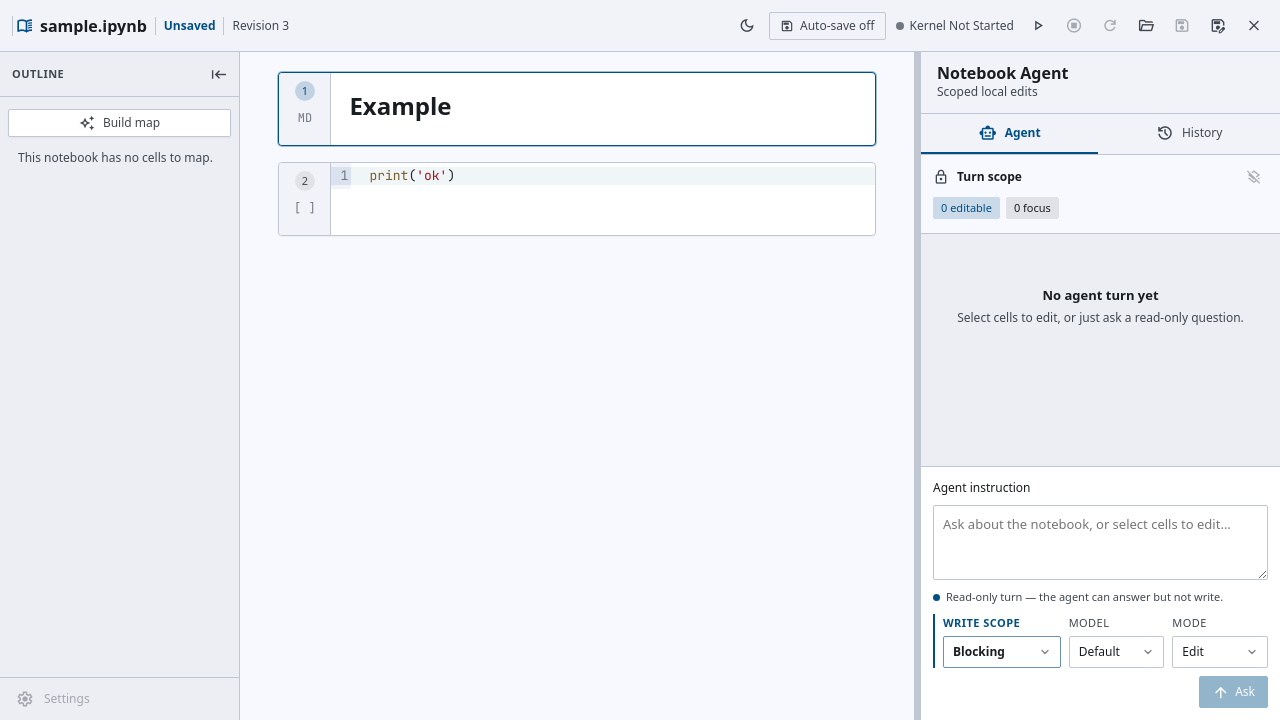
Scenario: Notebook editor › requires confirmation before discarding a dirty notebook
Step 1. Click the button named "Close notebook" → (1254, 26), box top-left (1240, 12), bottom-right (1268, 40)
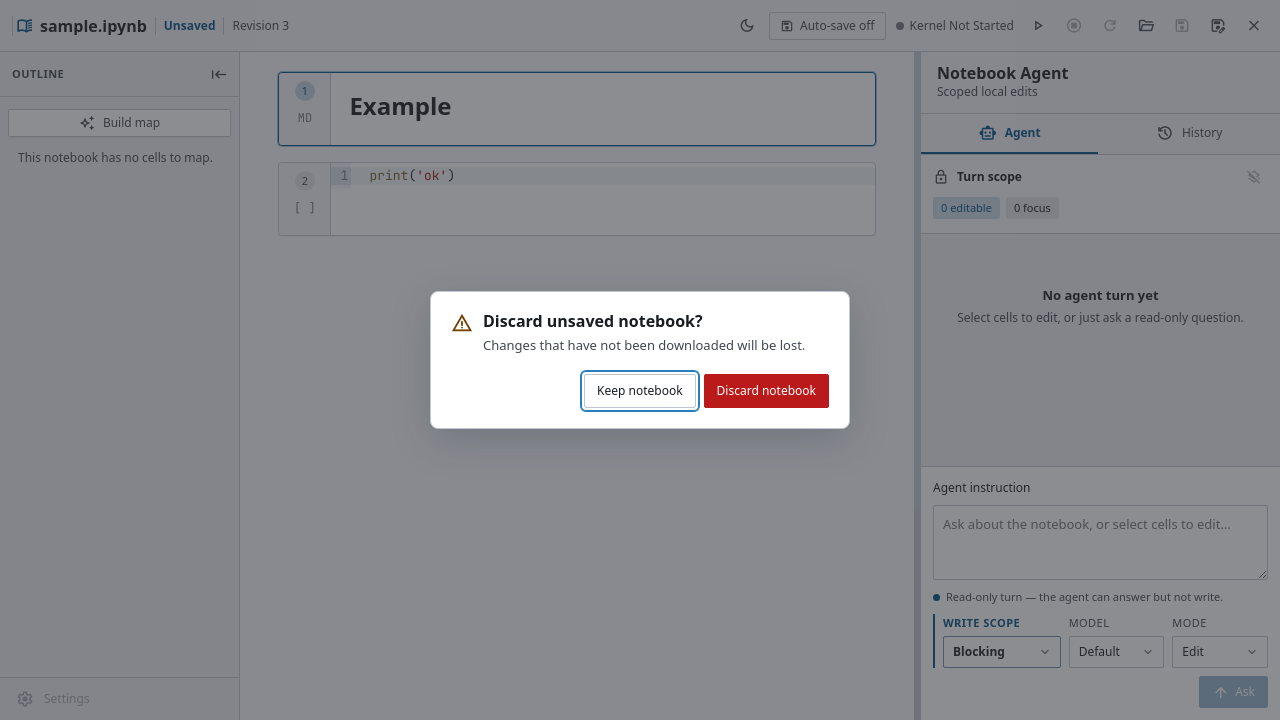
expect the dialog "Discard unsaved notebook?" shows "Changes that have not been downloaded will be lost.": met, box top-left (483, 336), bottom-right (805, 354)
Step 2. Click the button "Keep notebook" → (640, 391), box top-left (584, 374), bottom-right (696, 408)
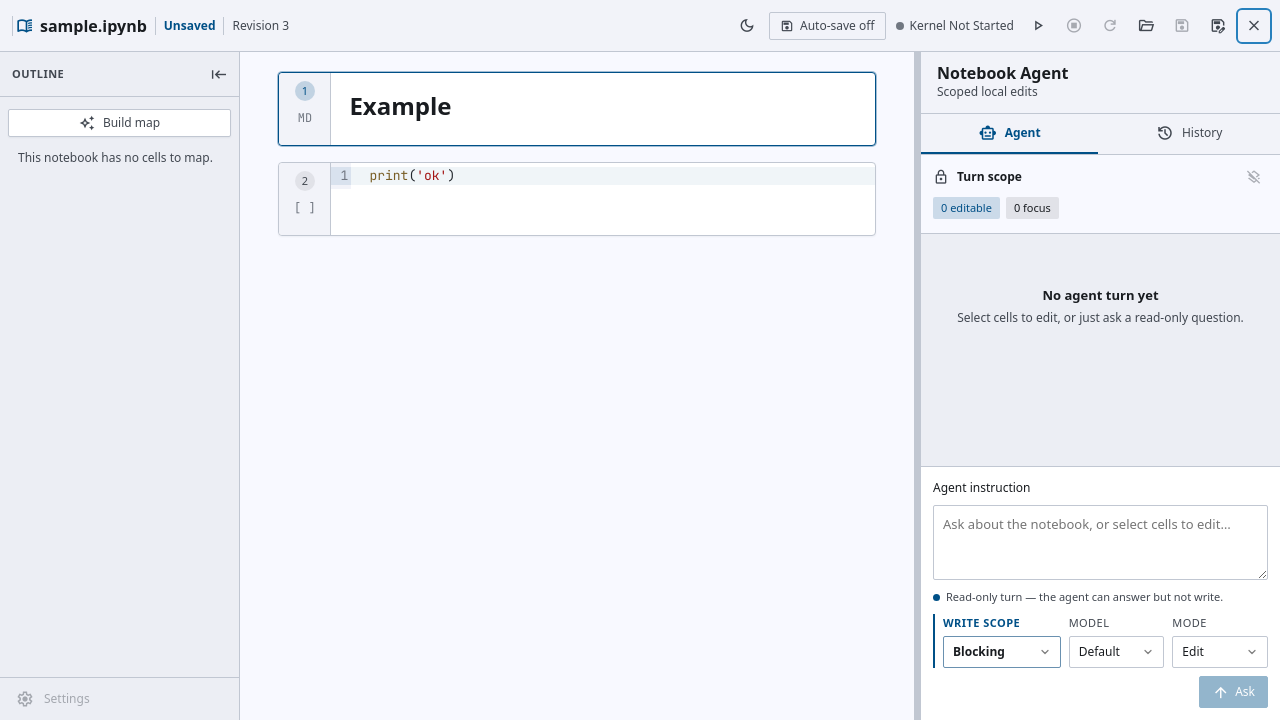
expect the text "sample.ipynb" is shown: met, box top-left (40, 16), bottom-right (147, 34)
expect the dialog is gone: met
Step 3. Click the button named "Close notebook" → (1254, 26), box top-left (1240, 12), bottom-right (1268, 40)
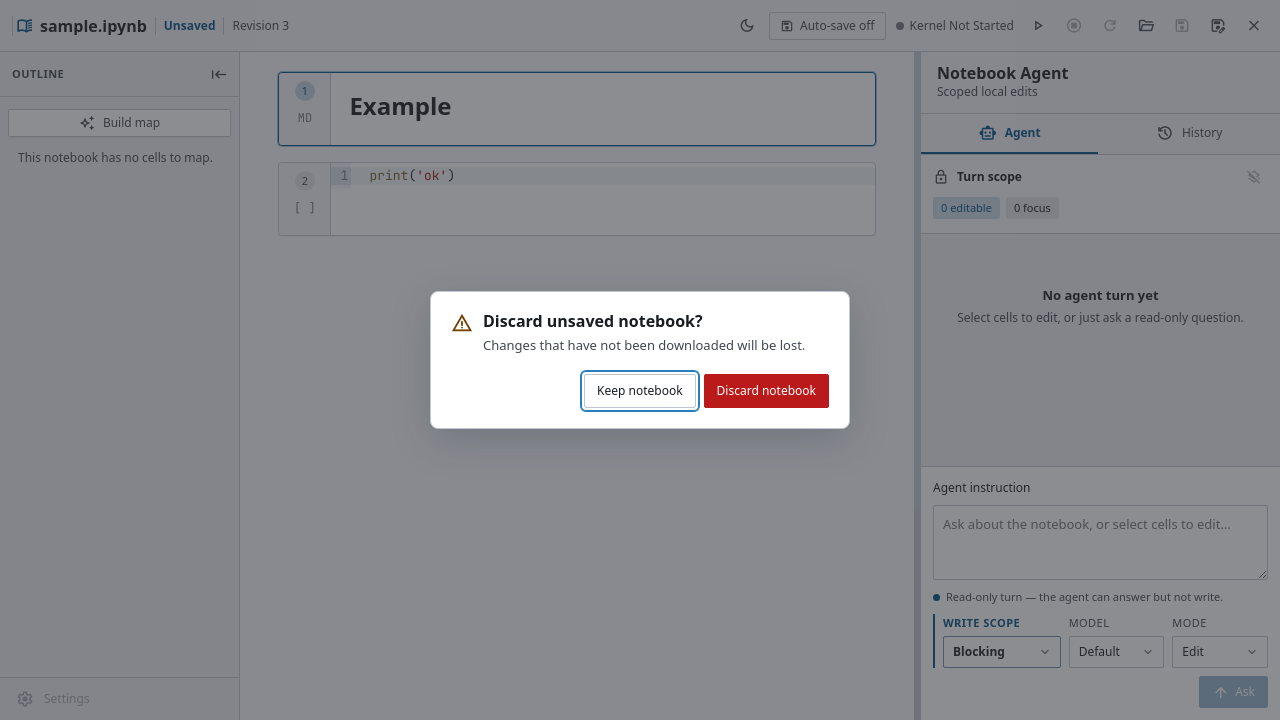
Step 4. Click the button "Discard notebook" → (766, 391), box top-left (704, 374), bottom-right (829, 408)
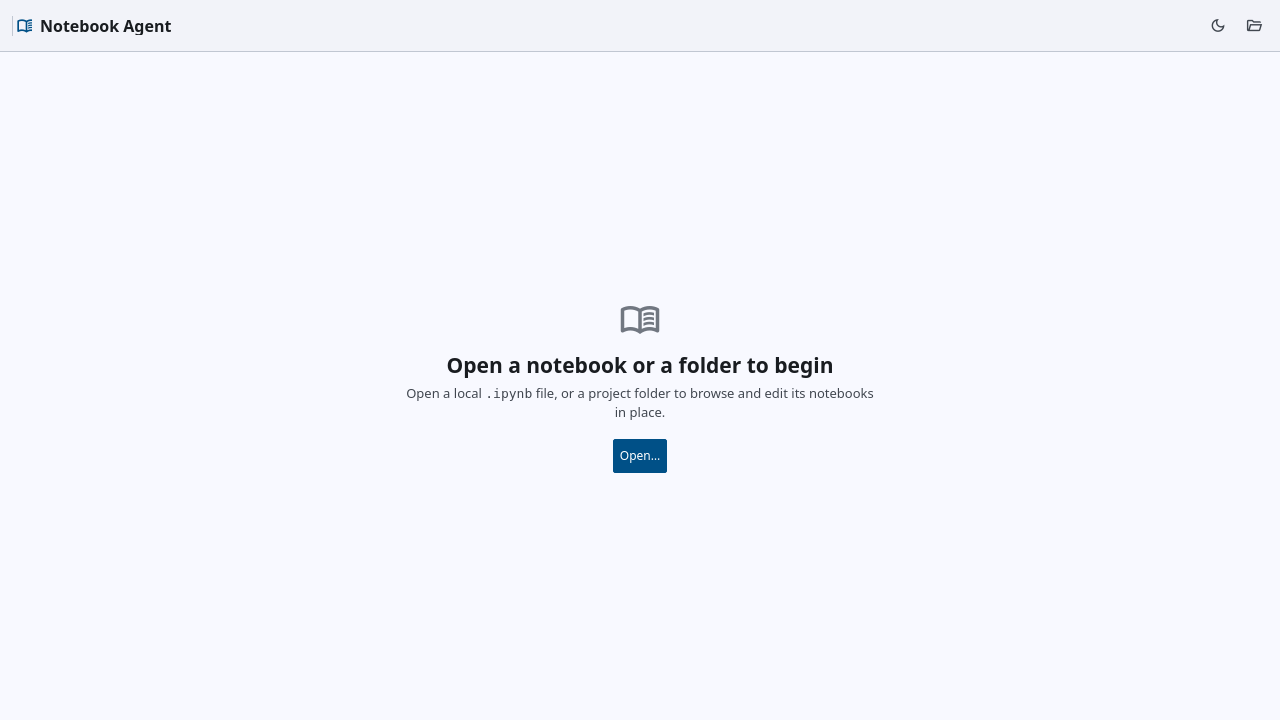
expect the heading "Open a notebook or a folder to begin" is shown: met, box top-left (446, 356), bottom-right (834, 374)
